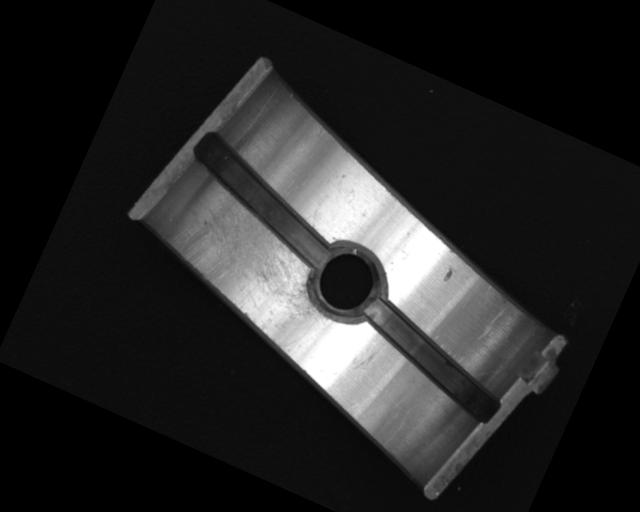bruise: (441, 266, 456, 285)
gap: (172, 128, 354, 269), (343, 296, 519, 427)
hole: (296, 229, 400, 335)
nick: (475, 298, 509, 347), (351, 333, 388, 378)
scratch: (150, 181, 359, 370)
